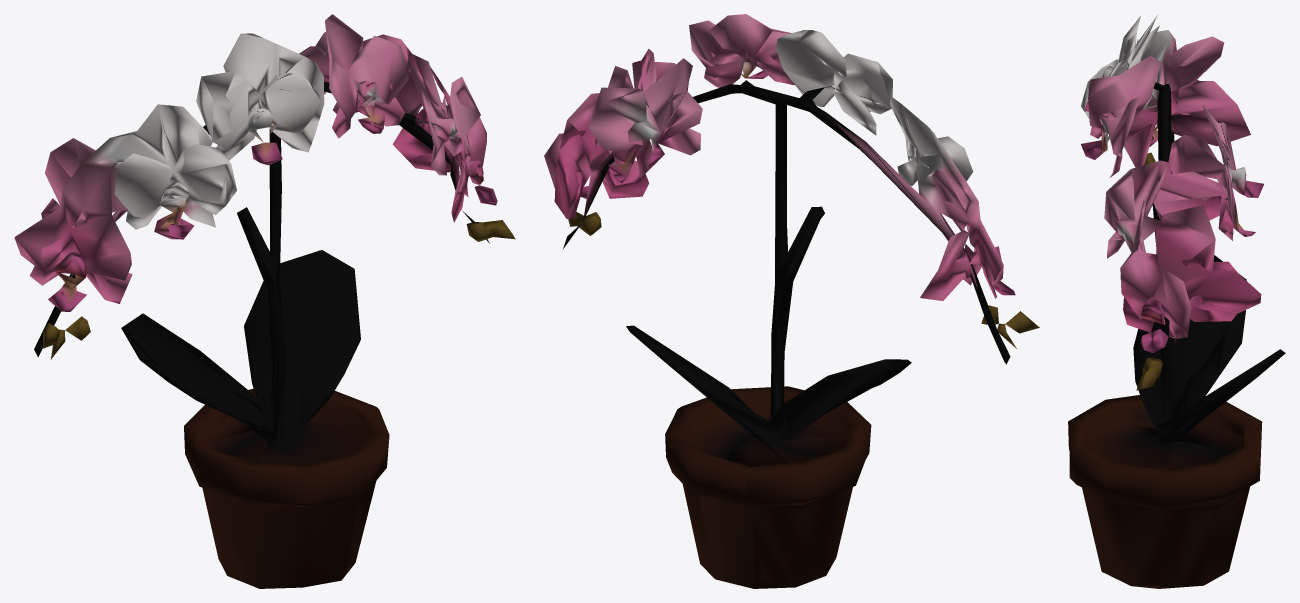
File: gen3d-orchid-lod1.glb
3 views of the same model, side by side, from view 1: azimuth 30°, elevation 25°; view 2: azimuth 150°, elevation 25°; view 3: azimuth 270°, elevation 25° (orthographic). The views are drawn at different scales.
Visible parts, largest first — view 1: part_0; view 2: part_0; view 3: part_0.
Part boxes in pixels (x1=…): part_0: x1=14, y1=14, x2=515, y2=588; part_0: x1=544, y1=14, x2=1039, y2=588; part_0: x1=1068, y1=15, x2=1285, y2=588.
Size of the model in its own units: 0.9076 by 0.9977 by 0.3751.
